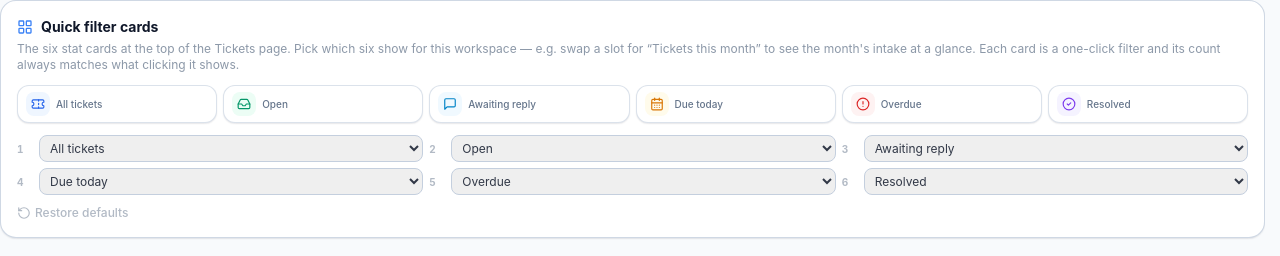
Test: QueueCardsSection (Phase FC admin UI) › changing a slot to "Tickets this month" PUTs the new six and updates the preview
Check: the dropdown named "Card slot 1" is shown, box [39, 135, 423, 162]
Select "Tickets this month" in the dropdown named "Card slot 4" at x=231, y=182, box [39, 168, 423, 195]
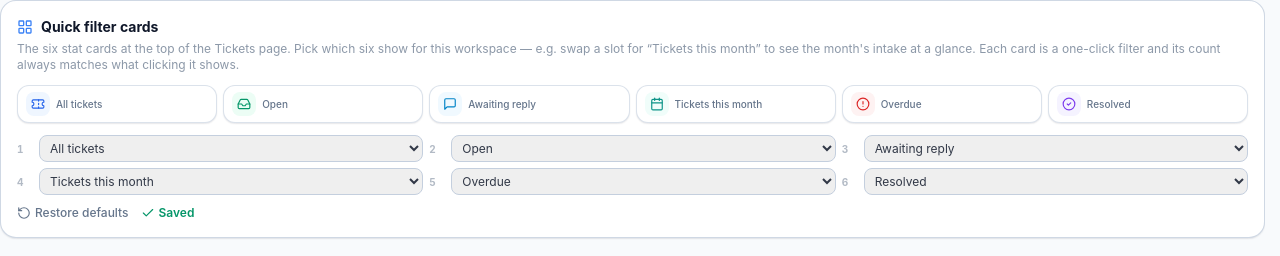
Check: the text "Tickets this month" is shown, box [674, 96, 762, 112]
Check: the text "Saved" is shown, box [140, 205, 194, 221]
